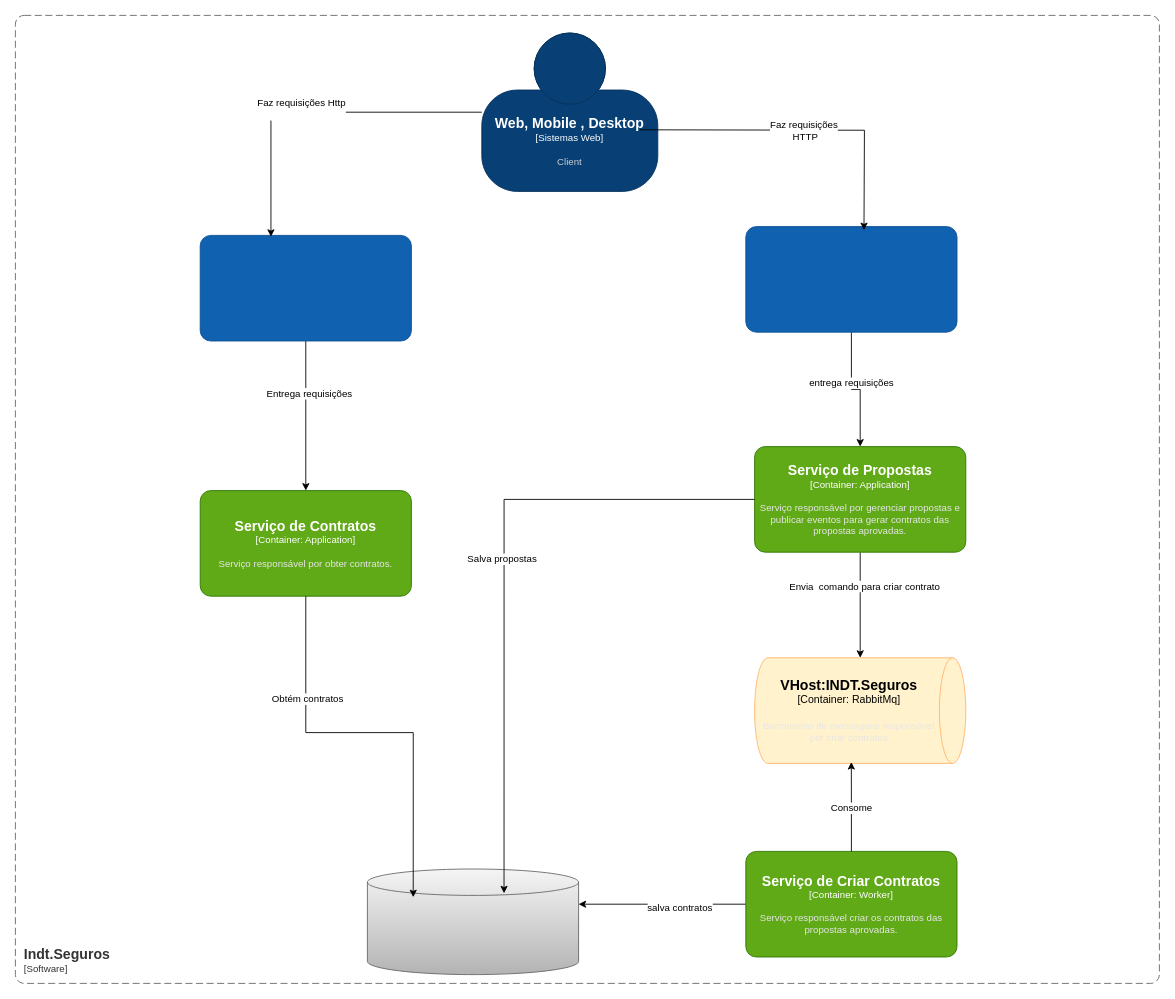
Image size: 1175x999. Some labels were removed from this diagram. The shapes that lost their labels are listed below. From the top down, each one's centre as x and y in pixels, then its label:
At point (305, 288): "API Contratos [API Rest] API responsável por listar contratos".
At point (851, 279): "API Propostas [API Rest] API responsável por criar , alterar e listar propostas".
At point (473, 921): "IDTSeguro [Container: Sql Server] Base de dados".
